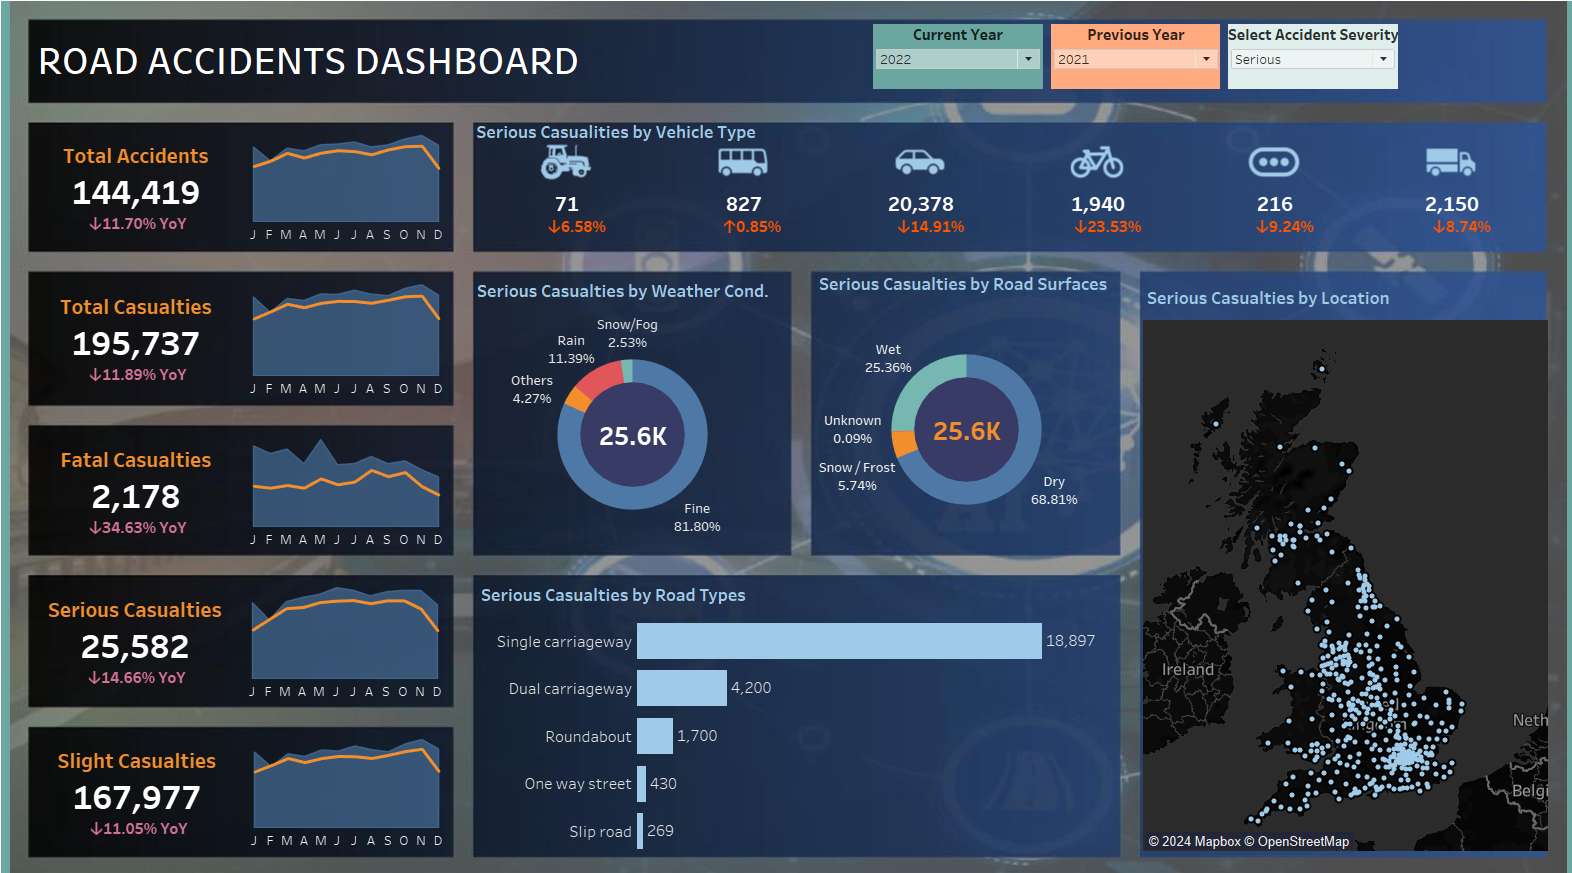

Layout of this report page (visuals, bound fields, positions):
{"tool":"tableau","page":{"name":"Dashboard 1","canvas":[1600,900],"ordinal":0},"visuals":[{"type":"image","param":"C:/Users/rekha/Downloads/Background.pptx.jpg","box":[8,8,1584,884]},{"type":"parameter","param":"[Parameters].[Parameter 1]","box":[880,31,177.7,73]},{"type":"parameter","param":"[Parameters].[Current Year (copy)_679480640702103553]","box":[1057.7,31,177.7,73]},{"type":"parameter","param":"[Parameters].[Parameter 2]","box":[1235.3,31,177.7,73]},{"type":"text","box":[45,38,561,65]},{"type":"text","box":[484,132,579,21]},{"type":"worksheet","title":"Total Accidents","mark":"Automatic","box":[42,138,210,121]},{"type":"worksheet","title":"Accident Sparkline","mark":"Automatic","rows":["CY Accidents (copy)_679480640704131075","Calculation_679480640702513154"],"cols":["Accident Date"],"box":[252,138,210,121]},{"type":"worksheet","title":"Vehicle Type Images","mark":"Shape","box":[488,151,1064,43]},{"type":"worksheet","title":"Vehicle Type KPI","mark":"Automatic","box":[488,194,1064,60]},{"type":"worksheet","title":"Road Surfaces","mark":"Pie","rows":["Calculation_659777393128525825","Calculation_659777393128599555"],"box":[826,278,303,286]},{"type":"worksheet","title":"Weather Conditions","mark":"Pie","rows":["Calculation_659777393128525825","Calculation_659777393128599555"],"box":[484,285,319,282]},{"type":"worksheet","title":"Total Casualties","mark":"Automatic","box":[42,287,210,126]},{"type":"worksheet","title":" Total Casualties Sparkline","mark":"Automatic","rows":["CY Casualties (copy)_679480640711323654","Calculation_679480640710234117"],"cols":["Accident Date"],"box":[252,287,210,126]},{"type":"worksheet","title":"Location","mark":"Automatic","rows":["Latitude"],"cols":["Longitude"],"box":[1154,292,405,570]},{"type":"worksheet","title":"Fatal Casualties ","mark":"Automatic","box":[42,442,210,122]},{"type":"worksheet","title":"Fatal Casualties Sparkline ","mark":"Automatic","rows":["CY Fatal Casualties (copy)_679480640725520393","Calculation_679480640723632136"],"cols":["Accident Date"],"box":[252,442,210,122]},{"type":"worksheet","title":"Road Types","mark":"Automatic","rows":["Road_Type"],"cols":["Calculation_679480640710234117"],"box":[488,589,643,277]},{"type":"worksheet","title":"Serious  Casualties","mark":"Automatic","box":[41,590,210,126]},{"type":"worksheet","title":"Serious Casualties Sparkline ","mark":"Automatic","rows":["PY Fatal Casualties  (copy)_679480640727298060","CY Fatal Casualties (copy)_679480640726638603"],"cols":["Accident Date"],"box":[251,590,210,126]},{"type":"worksheet","title":"Slight  Casualties ","mark":"Automatic","box":[43,742,210,123]},{"type":"worksheet","title":"Slight Casualties Sparkline ","mark":"Automatic","rows":["PY Serious Casualties  (copy)_679480640729411599","CY Serious Casualties  (copy)_679480640729128974"],"cols":["Accident Date"],"box":[253,742,209,123]}]}

Visuals, with their boxes in screenshot pixels (x1, y1, x2, y2), scaled from the page's 1600x900 canvas onto the 1572x873 screenshot:
image: {"left": 8, "top": 8, "right": 1564, "bottom": 865}
parameter: {"left": 865, "top": 30, "right": 1039, "bottom": 101}
parameter: {"left": 1039, "top": 30, "right": 1214, "bottom": 101}
parameter: {"left": 1214, "top": 30, "right": 1388, "bottom": 101}
text: {"left": 44, "top": 37, "right": 595, "bottom": 100}
text: {"left": 476, "top": 128, "right": 1044, "bottom": 148}
"Total Accidents" worksheet: {"left": 41, "top": 134, "right": 248, "bottom": 251}
"Accident Sparkline" worksheet: {"left": 248, "top": 134, "right": 454, "bottom": 251}
"Vehicle Type Images" worksheet (Shape marks): {"left": 479, "top": 146, "right": 1525, "bottom": 188}
"Vehicle Type KPI" worksheet: {"left": 479, "top": 188, "right": 1525, "bottom": 246}
"Road Surfaces" worksheet (Pie marks): {"left": 812, "top": 270, "right": 1109, "bottom": 547}
"Weather Conditions" worksheet (Pie marks): {"left": 476, "top": 276, "right": 789, "bottom": 550}
"Total Casualties" worksheet: {"left": 41, "top": 278, "right": 248, "bottom": 401}
" Total Casualties Sparkline" worksheet: {"left": 248, "top": 278, "right": 454, "bottom": 401}
"Location" worksheet: {"left": 1134, "top": 283, "right": 1532, "bottom": 836}
"Fatal Casualties " worksheet: {"left": 41, "top": 429, "right": 248, "bottom": 547}
"Fatal Casualties Sparkline " worksheet: {"left": 248, "top": 429, "right": 454, "bottom": 547}
"Road Types" worksheet: {"left": 479, "top": 571, "right": 1111, "bottom": 840}
"Serious  Casualties" worksheet: {"left": 40, "top": 572, "right": 247, "bottom": 695}
"Serious Casualties Sparkline " worksheet: {"left": 247, "top": 572, "right": 453, "bottom": 695}
"Slight  Casualties " worksheet: {"left": 42, "top": 720, "right": 249, "bottom": 839}
"Slight Casualties Sparkline " worksheet: {"left": 249, "top": 720, "right": 454, "bottom": 839}
